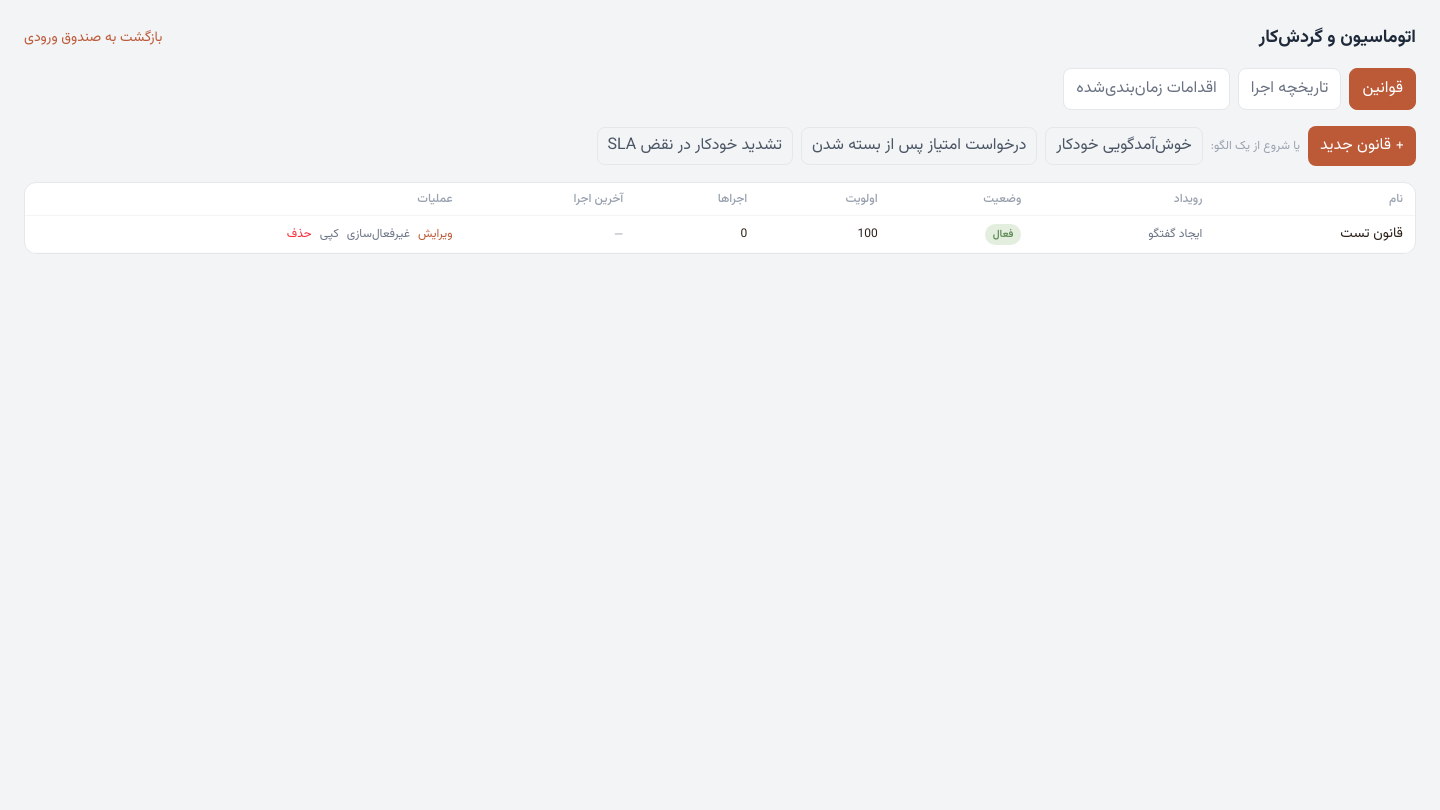
Automations page › starter templates populate the builder without auto-activating
The image size is (1440, 810).
Click the button "خوش‌آمدگویی خودکار" at (1124, 146), box [1045,127,1203,165]
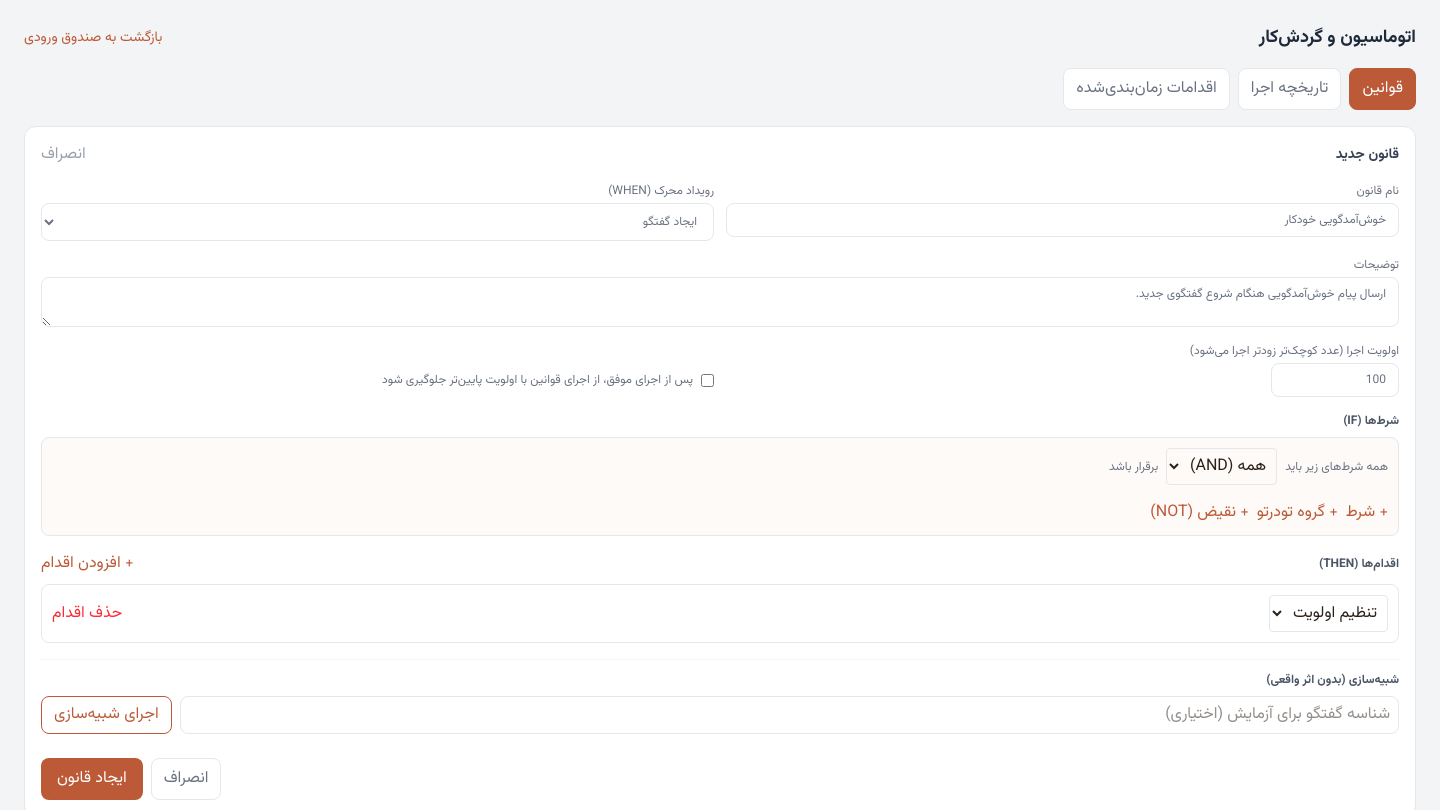
Check: the field showing "خوش‌آمدگویی خودکار" is shown, box [726,203,1399,237]
